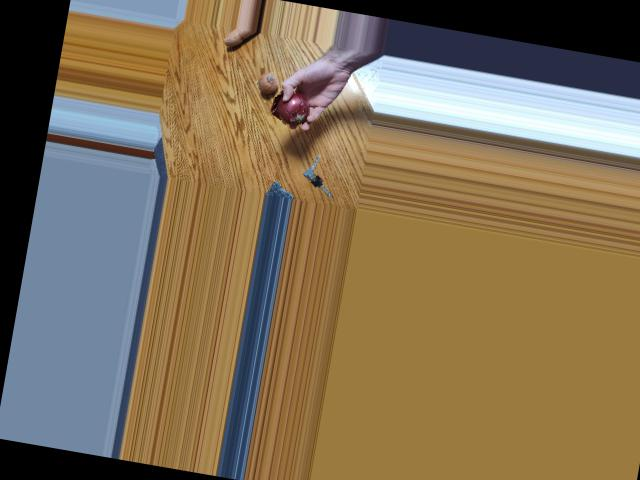onion: (275, 92, 310, 126)
